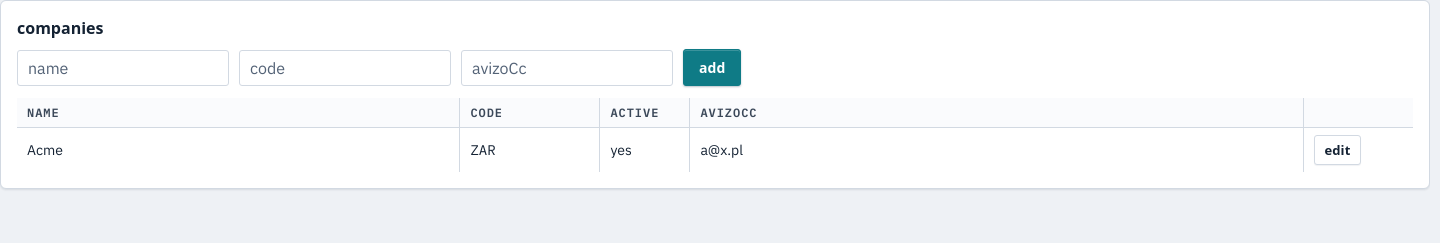
it: formularze zakładek admina › edycja: Anuluj po lewej od Zapisz, Esc porzuca zmianę i przywraca wartość rekordu
Click the button "edit": (1337, 150) [1314,135,1361,165]
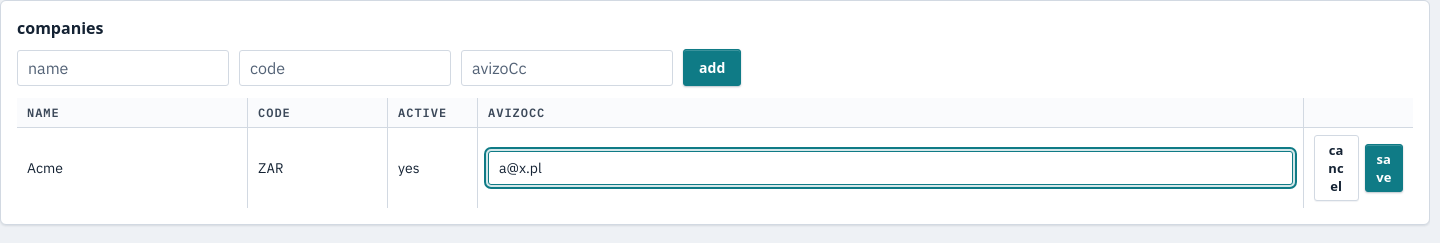
Replace the text in the field named "avizoCc" with "zmiana@x.pl": (890, 168) [488,151,1292,185]
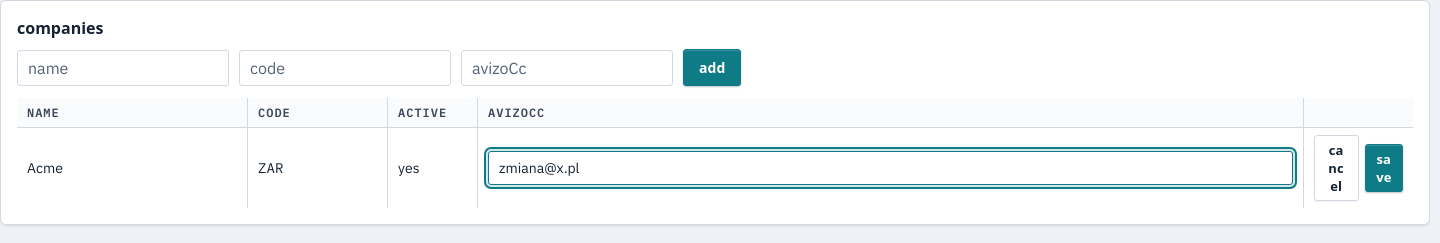
Press Escape
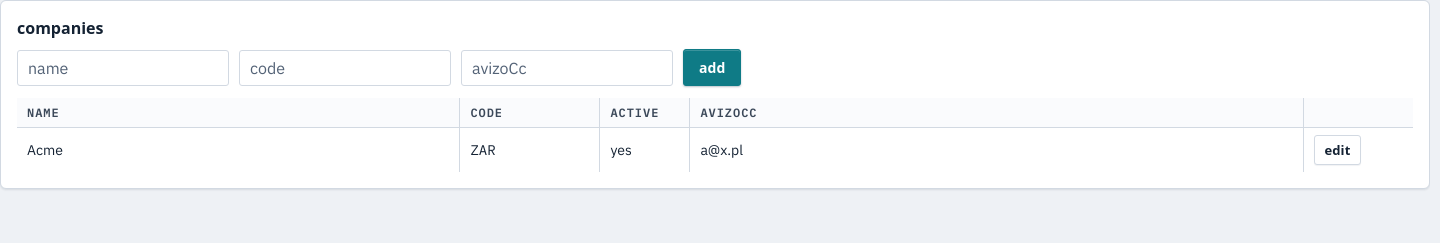
expect the text "a@x.pl" is shown: met, box [690,128,1303,172]
